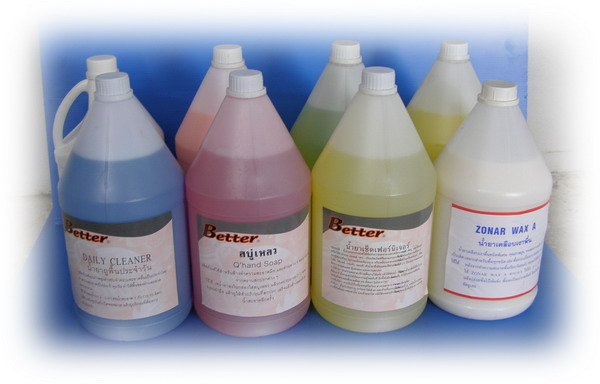Cleaning_solution: (180, 65, 318, 342), (304, 63, 443, 337), (54, 70, 192, 343), (428, 78, 557, 327)
